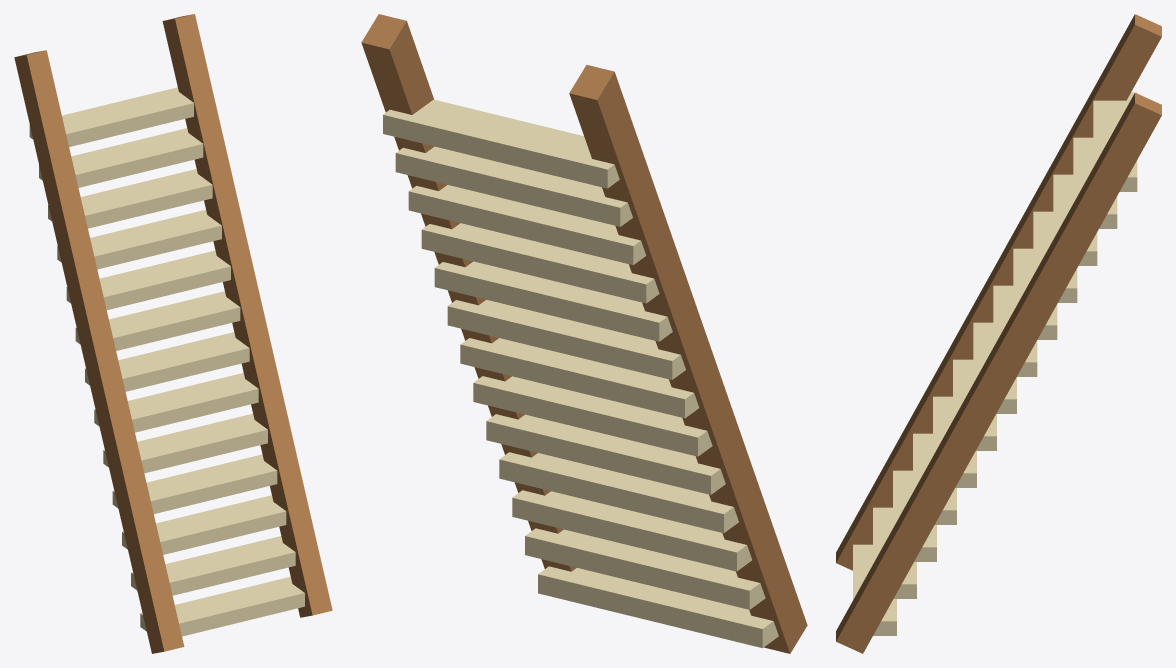
Rendered from treehouse_ladder.glb.
3 renders of one model, left to right at view 1: azimuth 30°, elevation 25°; view 2: azimuth 150°, elevation 25°; view 3: azimuth 270°, elevation 25°, orthographic. The views are drawn at different scales.
Visible parts, largest first — view 1: LadderStringer, _MeshInstance3D_181, WideTread07, WideTread03, WideTread11, WideTread12, WideTread09, WideTread10, WideTread08, WideTread04, WideTread06, WideTread02 (+3 smaller); view 2: LadderStringer, WideTread12, WideTread00, WideTread01, WideTread02, WideTread03, _MeshInstance3D_181, WideTread04, WideTread05, WideTread06, WideTread07, WideTread08 (+3 smaller); view 3: _MeshInstance3D_181, LadderStringer, WideTread12, WideTread11, WideTread10, WideTread07, WideTread08, WideTread09, WideTread06, WideTread05, WideTread00, WideTread01 (+3 smaller).
Boxes of the visible parts, bbox=[...] form: LadderStringer: bbox=[14, 50, 184, 653]; _MeshInstance3D_181: bbox=[162, 14, 332, 617]; WideTread07: bbox=[75, 291, 240, 350]; WideTread03: bbox=[112, 454, 277, 513]; WideTread11: bbox=[39, 128, 203, 187]; WideTread12: bbox=[29, 87, 193, 146]; WideTread09: bbox=[57, 209, 221, 269]; WideTread10: bbox=[48, 169, 212, 228]; WideTread08: bbox=[66, 250, 230, 309]; WideTread04: bbox=[103, 413, 267, 473]; WideTread06: bbox=[85, 332, 249, 391]; WideTread02: bbox=[122, 495, 286, 554]; LadderStringer: bbox=[569, 65, 807, 653]; WideTread12: bbox=[383, 99, 619, 188]; WideTread00: bbox=[538, 566, 778, 647]; WideTread01: bbox=[525, 528, 765, 609]; WideTread02: bbox=[512, 490, 752, 571]; WideTread03: bbox=[499, 452, 738, 533]; _MeshInstance3D_181: bbox=[361, 14, 576, 571]; WideTread04: bbox=[486, 414, 725, 494]; WideTread05: bbox=[473, 376, 712, 456]; WideTread06: bbox=[460, 338, 699, 418]; WideTread07: bbox=[447, 299, 685, 379]; WideTread08: bbox=[434, 261, 672, 341]; _MeshInstance3D_181: bbox=[836, 92, 1161, 653]; LadderStringer: bbox=[836, 14, 1161, 570]; WideTread12: bbox=[1093, 92, 1137, 191]; WideTread11: bbox=[1073, 137, 1117, 228]; WideTread10: bbox=[1053, 174, 1097, 265]; WideTread07: bbox=[993, 285, 1037, 376]; WideTread08: bbox=[1013, 248, 1057, 339]; WideTread09: bbox=[1033, 211, 1077, 302]; WideTread06: bbox=[973, 322, 1016, 413]; WideTread05: bbox=[953, 359, 996, 450]; WideTread00: bbox=[853, 544, 896, 635]; WideTread01: bbox=[873, 507, 916, 598].
Bounding box in the file's own units: 1.68 × 4.84 × 2.59.
